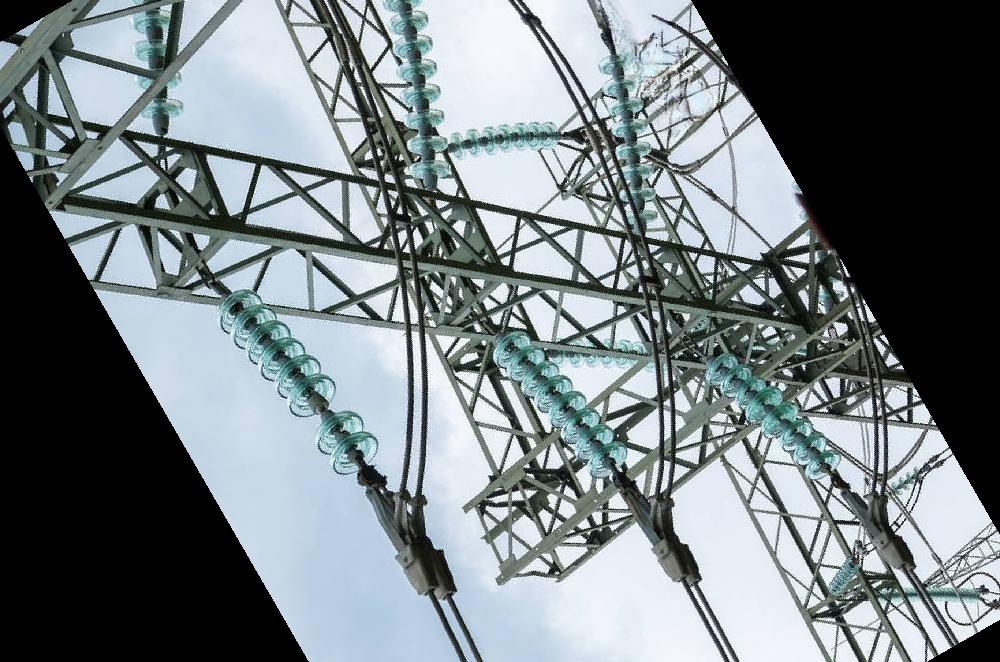insulator: (213, 284, 382, 482), (487, 325, 633, 482), (702, 351, 844, 486), (377, 1, 456, 183), (594, 48, 661, 229), (127, 1, 189, 130), (445, 112, 566, 159), (543, 335, 654, 377), (884, 581, 983, 609), (824, 551, 861, 600), (887, 464, 929, 500)
insulator_stringdrop: (281, 369, 367, 458)
